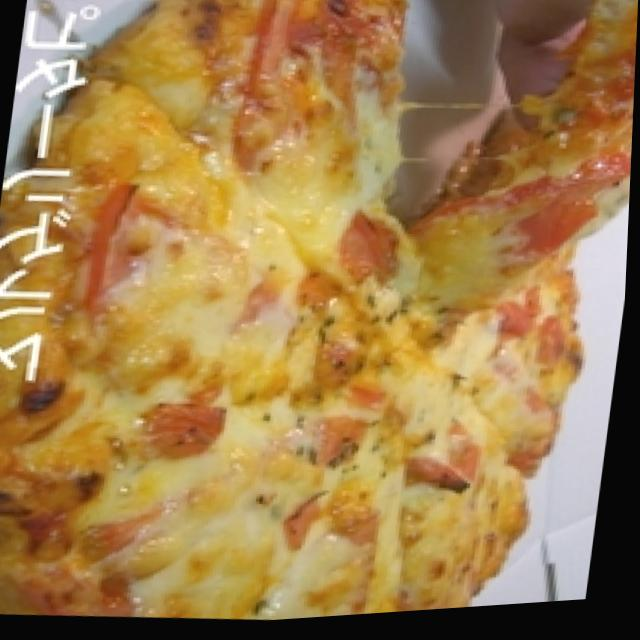汉堡快餐: (33, 0, 640, 637)
